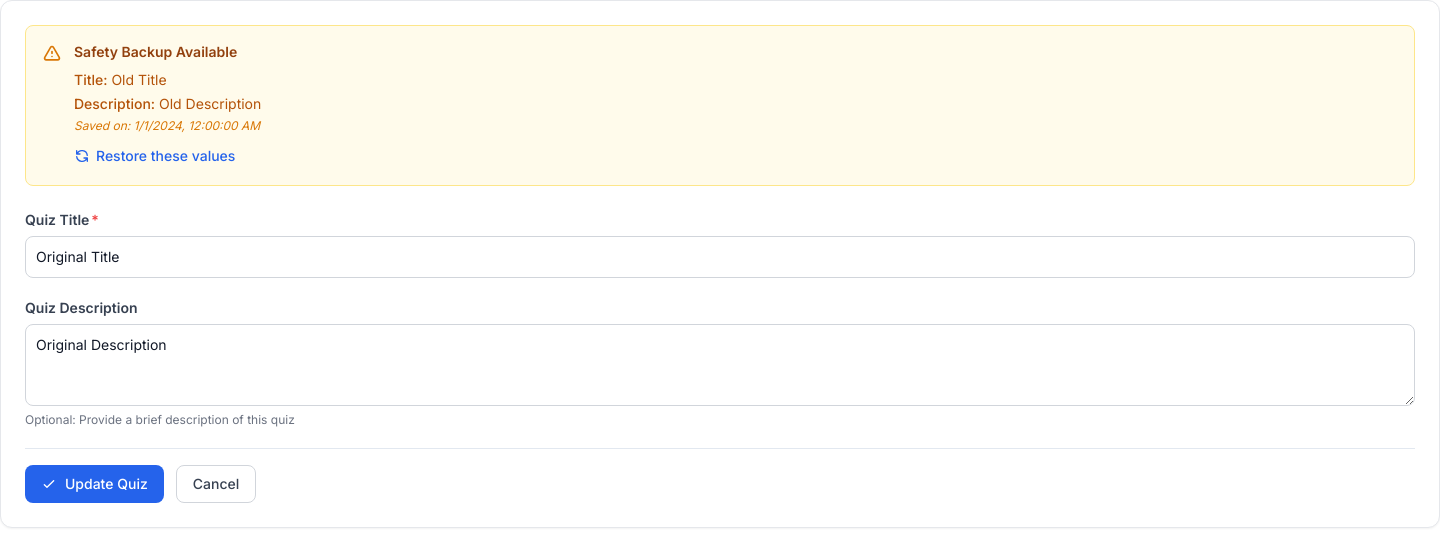
it: EditQuizForm › restores title and description when restore is clicked
Click the button "Restore these values" at (155, 156), box [74, 146, 235, 166]
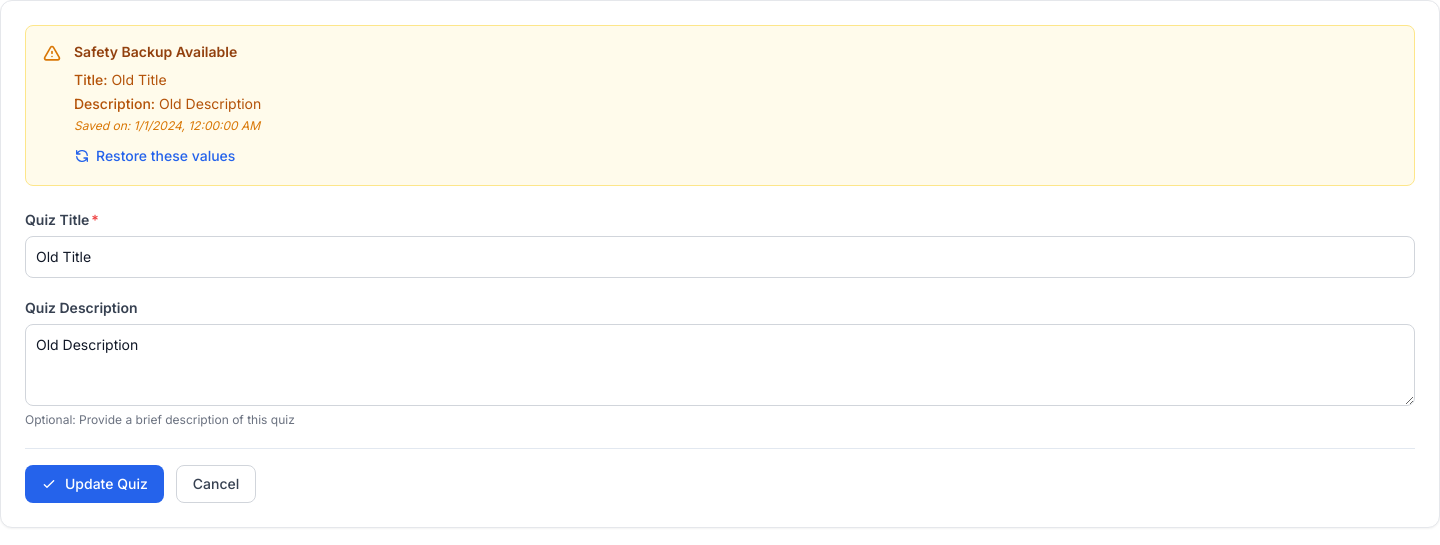
Expected: the field showing "Old Title" is shown, [25, 236, 1415, 278]
Expected: the text box showing "Old Description" is shown, [25, 324, 1415, 406]
